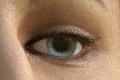eye: (47, 37, 76, 57)
